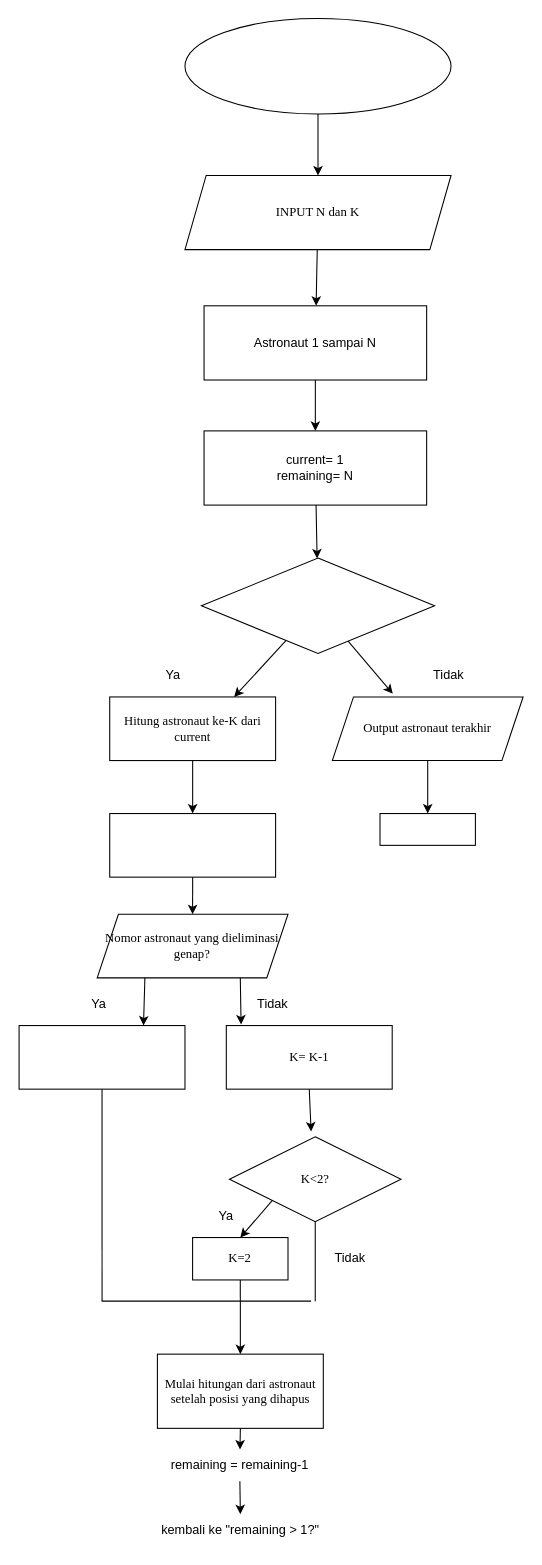
The diagram is 542 pixels wide and 1565 high, and some of its shapes have lost their labels. Here are the shapes that lost their labels. From the top down, the centre of each, then its label:
At pixel 317 65: "START".
At pixel 317 605: "remaining > 1?".
At pixel 192 844: "Eliminasi astronaut".
At pixel 427 828: "End".
At pixel 101 1056: "K= K+2".
